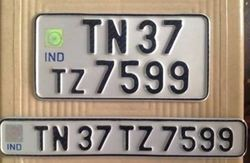doublelinenumberplate: (34, 11, 209, 101)
numberplate: (1, 117, 248, 158)
